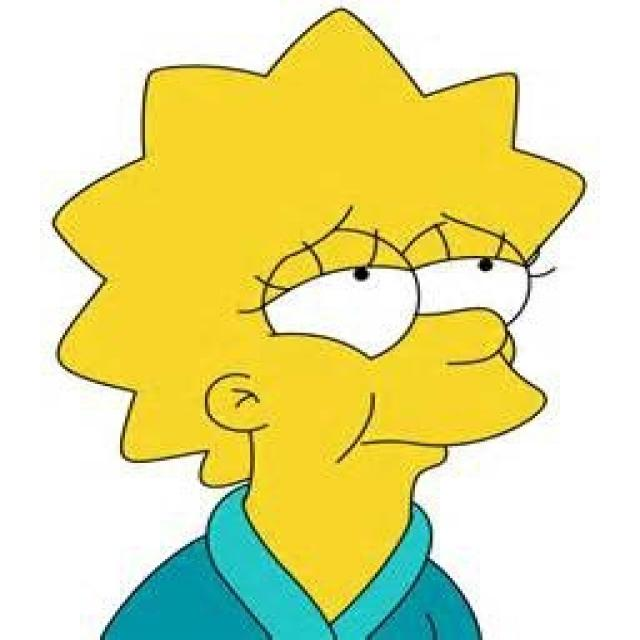Lisa Simpson: (48, 4, 592, 534)
